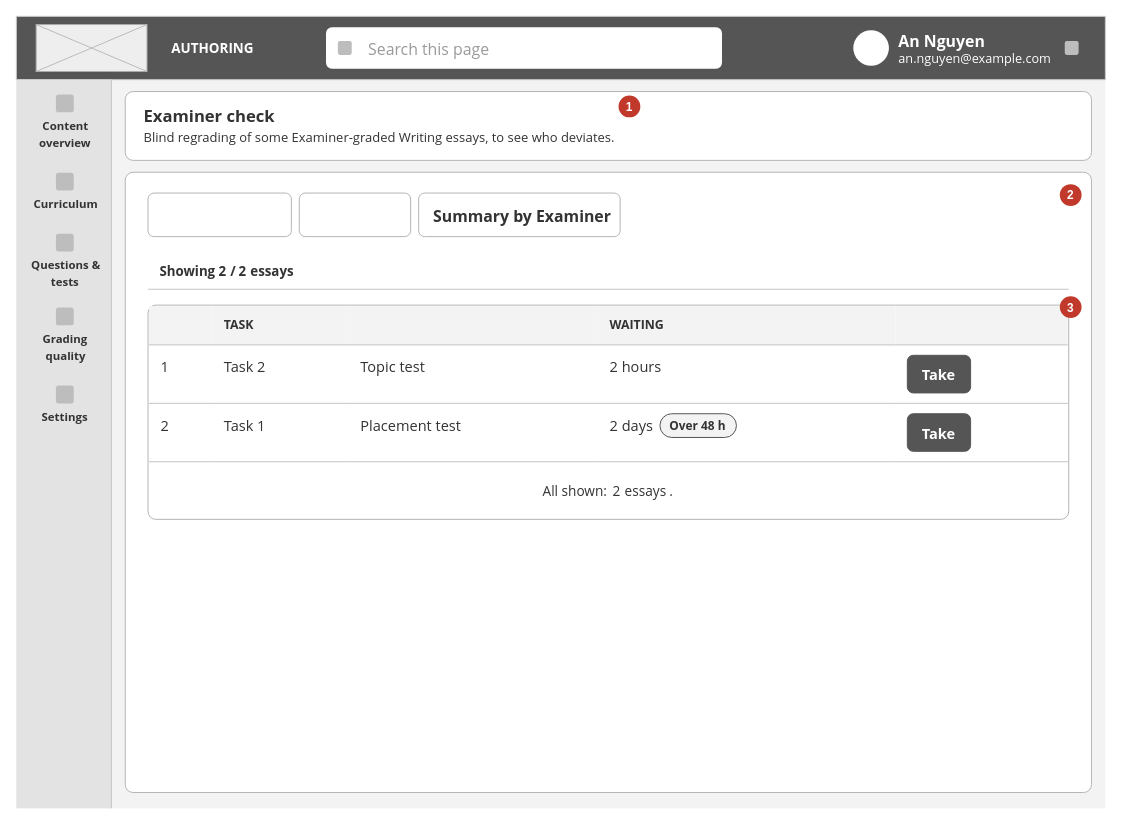
Image size: 1122x825. Some labels were removed from this diagram. The centre of each missing label's shape, as x and y in pixels:
AN: the point at 870,47
Essays waiting: the point at 219,214
My essays: the point at 354,214
NO.: the point at 180,325
SOURCE: the point at 473,325
